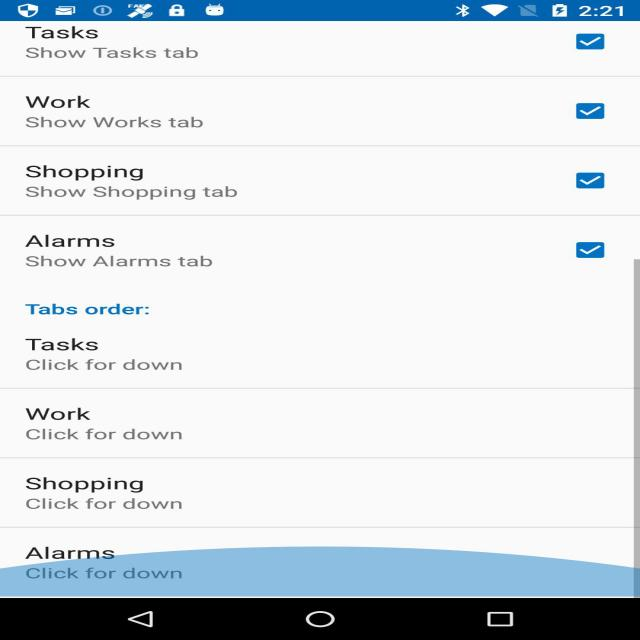icon: (578, 238, 621, 272), (570, 92, 607, 124), (568, 170, 614, 195), (566, 33, 614, 56)
text: (18, 536, 298, 591), (7, 152, 307, 200), (14, 89, 252, 141), (26, 398, 254, 447), (24, 471, 248, 520), (10, 229, 266, 270), (20, 328, 208, 382), (22, 23, 255, 65), (28, 294, 184, 320)
